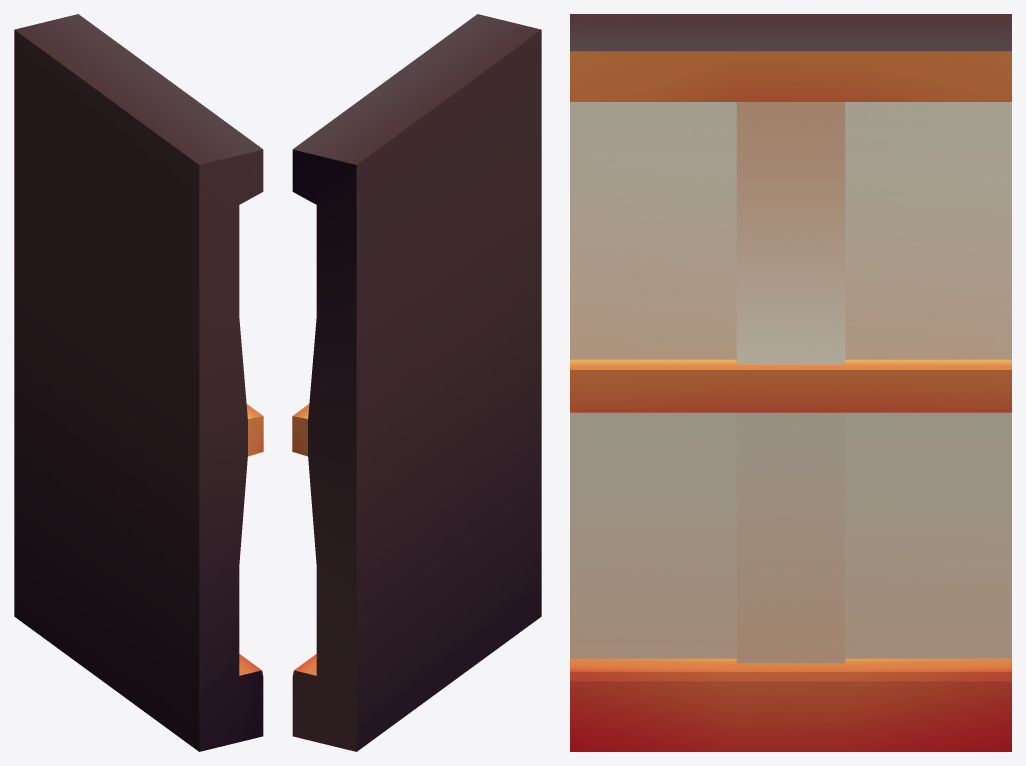
File: muur.fbx
The picture shows the model from 3 angles, left to right: view 1: azimuth 30°, elevation 25°; view 2: azimuth 150°, elevation 25°; view 3: azimuth 270°, elevation 25°; orthographic projection. The views are drawn at different scales.
Visible parts, largest first — view 1: Cube.001; view 2: Cube.001; view 3: Cube.001.
Part boxes in pixels (bbox=[...]): Cube.001: bbox=[14, 14, 263, 751]; Cube.001: bbox=[292, 14, 541, 751]; Cube.001: bbox=[570, 14, 1011, 751].
Bounding box in the file's own units: 40.16 × 350 × 200.
